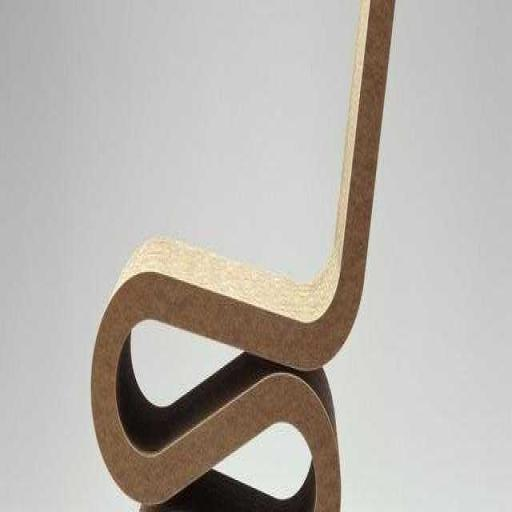chair: (78, 0, 399, 512)
